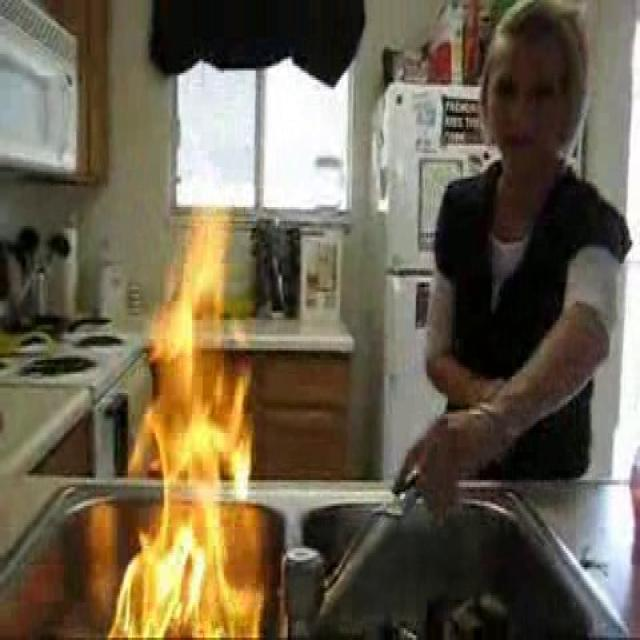Fire: (125, 219, 249, 626)
